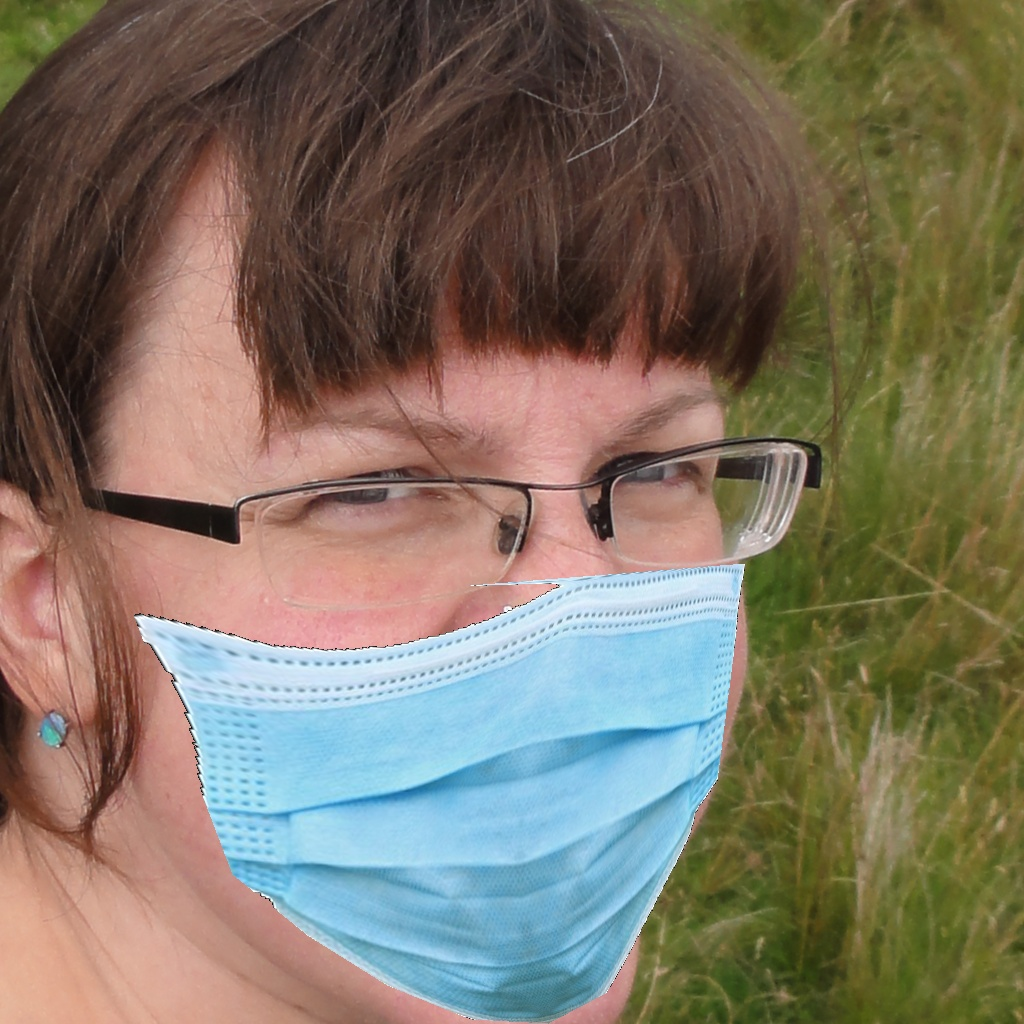with_mask: (205, 405, 750, 1023)
